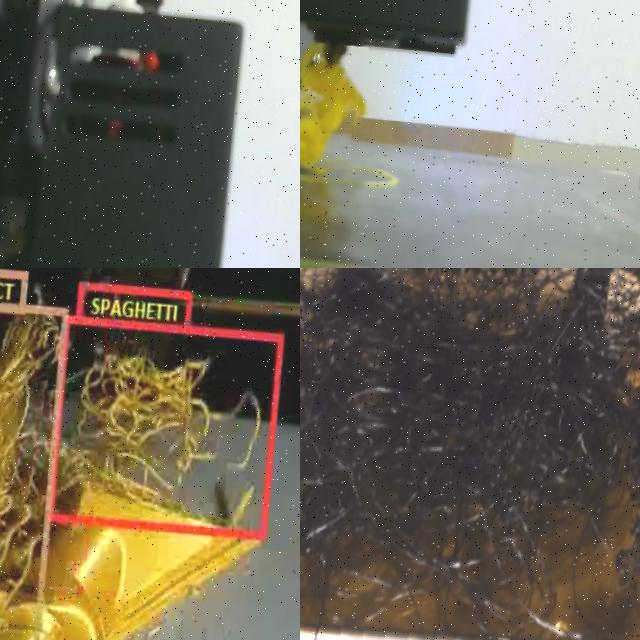spaghetti: (300, 268, 640, 640), (52, 332, 268, 526), (0, 308, 59, 640), (300, 42, 360, 169)
